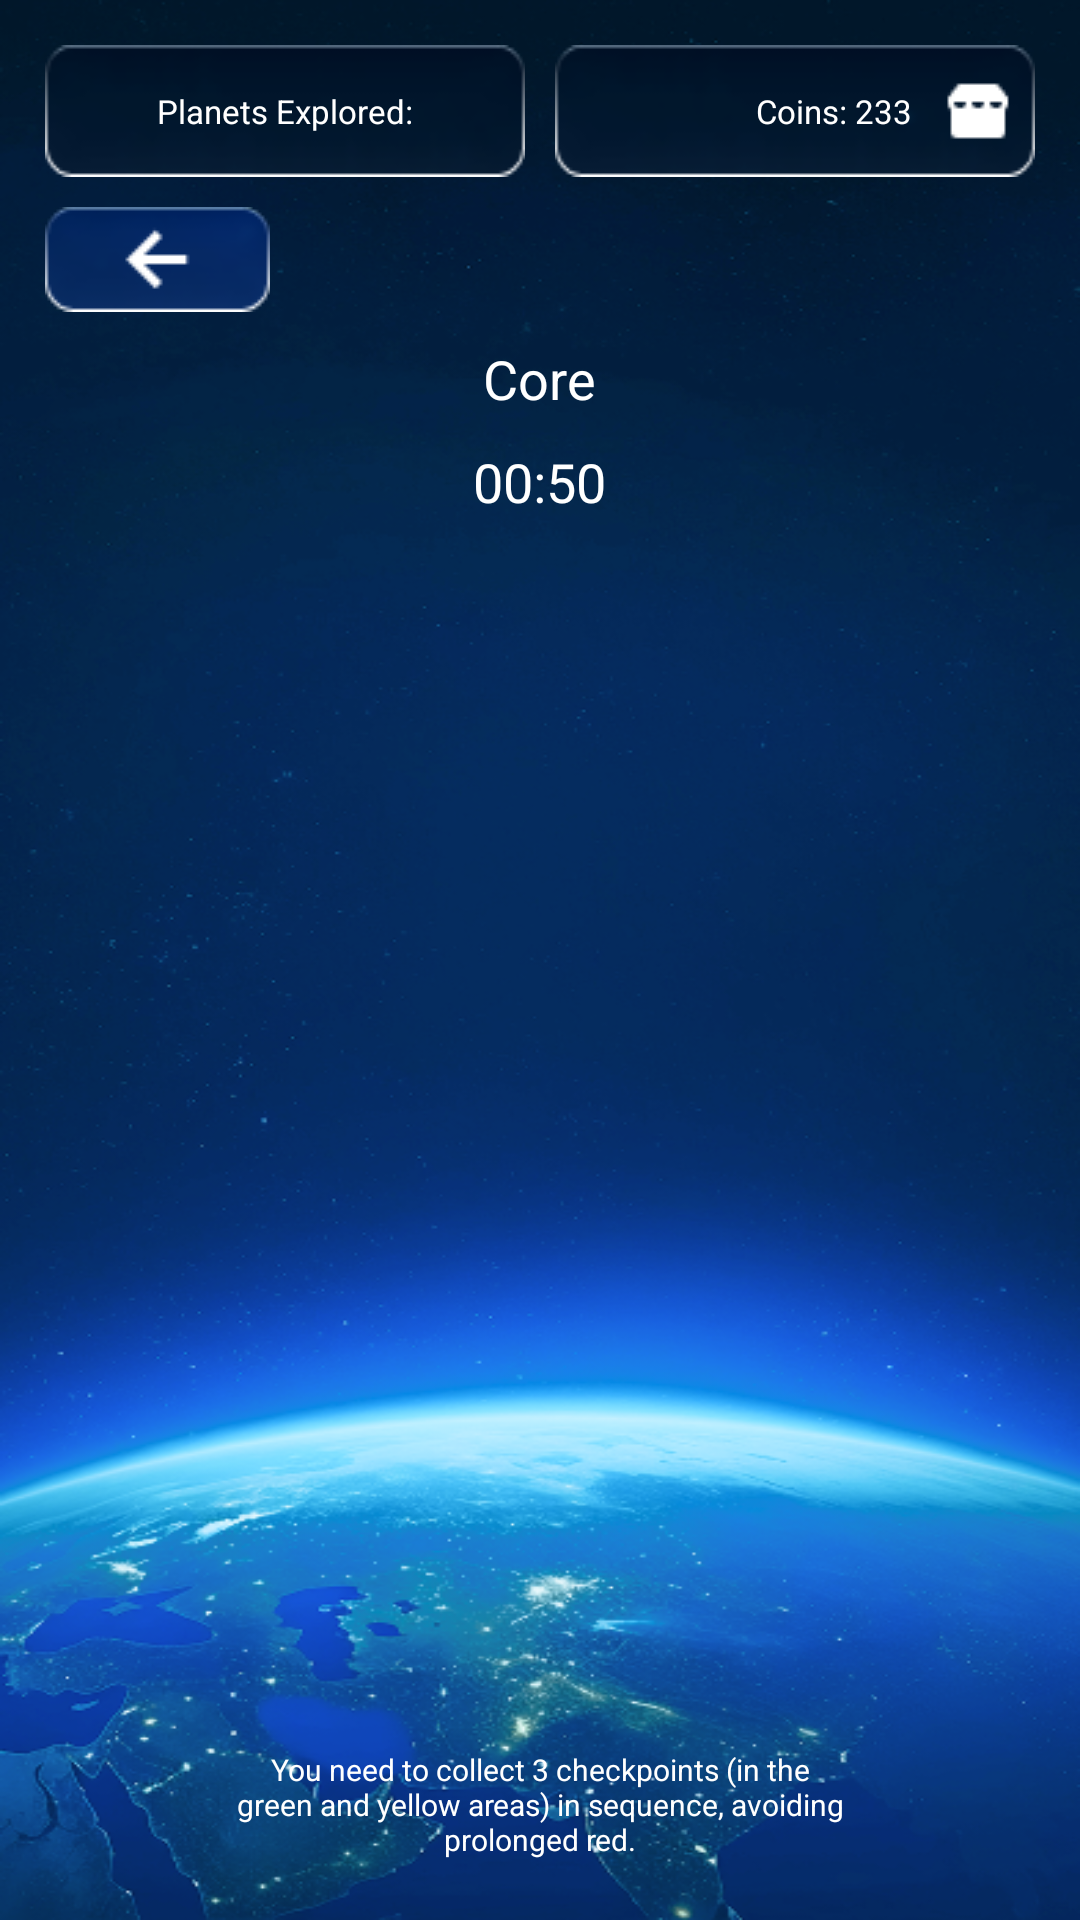

Icons on this 1080×1920 Android screen, each with the point to tap as [x,y]:
back: [157,259]
